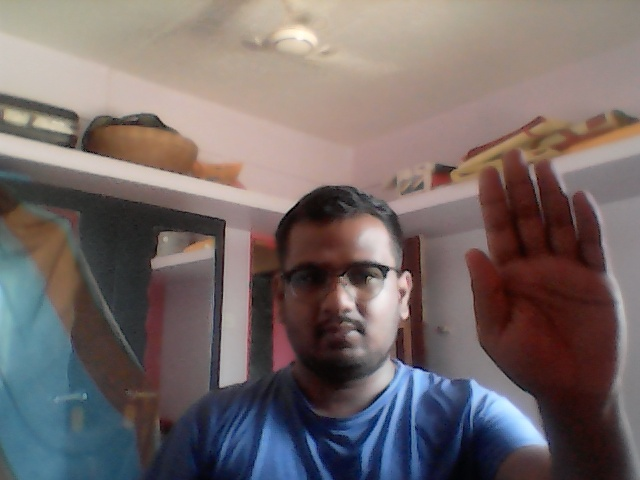Hello: (463, 145, 632, 404)
